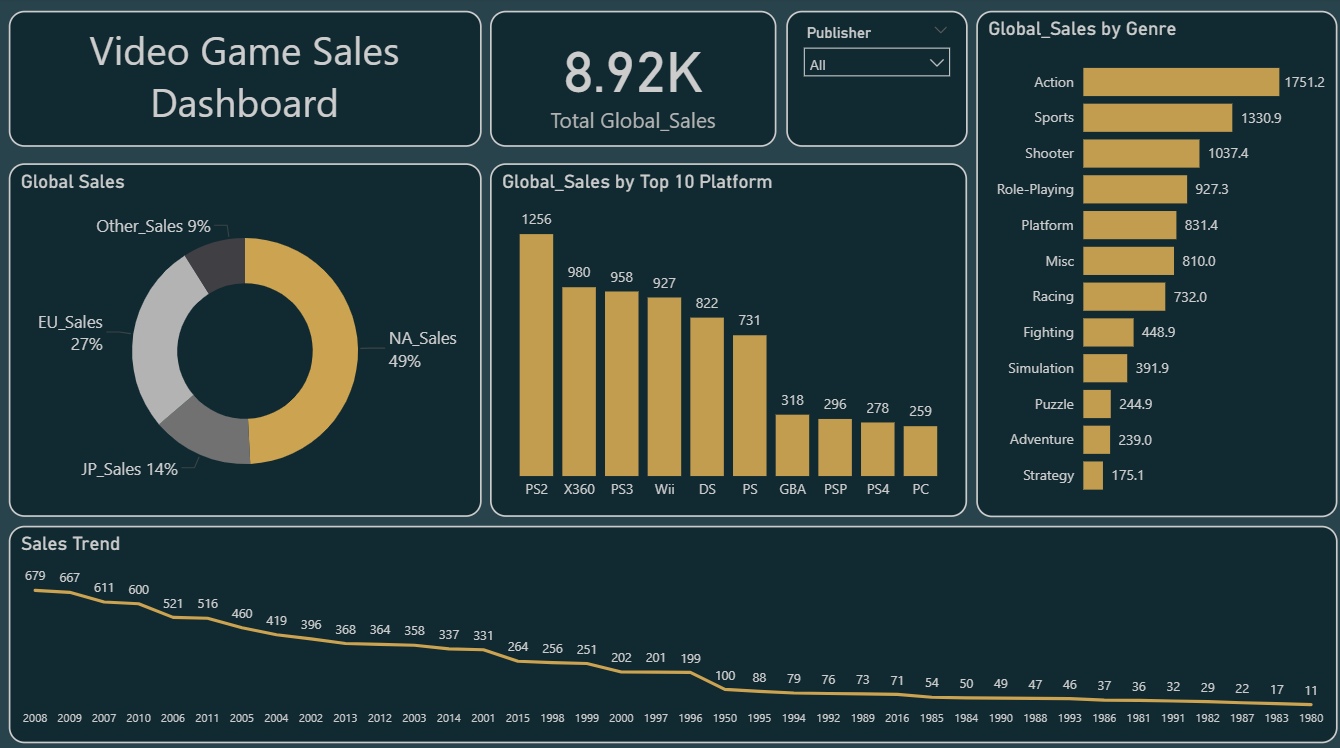

The dashboard page shown, as its layout file describes it:
{"tool":"powerbi","page":{"name":"Page 1","canvas":[1280,720],"ordinal":0},"visuals":[{"type":"donutChart","title":"Global Sales","fields":{"Y":["Sum(vgsales.NA_Sales)","Sum(vgsales.JP_Sales)","Sum(vgsales.EU_Sales)","Sum(vgsales.Other_Sales)"]},"box":[8.3,158.3,450,336.9],"z":0},{"type":"barChart","title":"Global_Sales by Genre","fields":{"Category":["vgsales.Genre"],"Y":["Sum(vgsales.Global_Sales)"]},"box":[929.8,13.1,344,482.1],"z":1000},{"type":"columnChart","title":"Global_Sales by Top 10 Platform","fields":{"Category":["vgsales.Platform"],"Y":["Sum(vgsales.Global_Sales)"]},"box":[466.7,158.3,454.8,336.9],"z":2000},{"type":"lineChart","title":"Sales Trend","fields":{"Category":["vgsales.Year"],"Y":["Sum(vgsales.Global_Sales)"]},"box":[8.3,503.6,1265.5,207.1],"z":3000},{"type":"card","fields":{"Values":["Sum(vgsales.Global_Sales)"]},"box":[466.7,13.1,272.6,129.8],"z":4000},{"type":"textbox","box":[8.3,13.1,450,129.8],"z":5000},{"type":"slicer","fields":{"Values":["vgsales.Publisher"]},"box":[748.8,13.1,172.6,129.8],"z":6000}]}

Visuals, with their boxes in screenshot pixels (x1, y1, x2, y2), scaled from the page's 1280x720 canvas onto the 1340x748 screenshot:
"Global Sales" donutChart: <box>9,164,480,514</box>
"Global_Sales by Genre" barChart: <box>973,14,1334,514</box>
"Global_Sales by Top 10 Platform" columnChart: <box>489,164,965,514</box>
"Sales Trend" lineChart: <box>9,523,1334,738</box>
card - Sum(vgsales.Global_Sales): <box>489,14,774,148</box>
textbox: <box>9,14,480,148</box>
slicer - vgsales.Publisher: <box>784,14,965,148</box>
